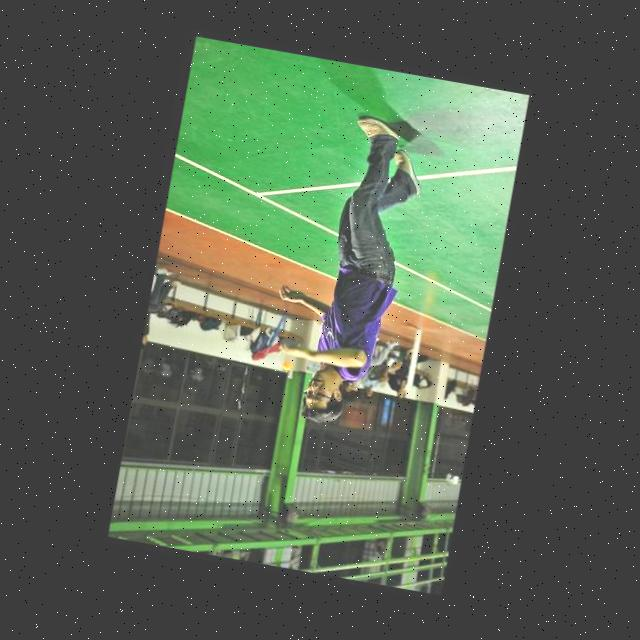ping-pong-ball: (280, 360, 290, 370)
